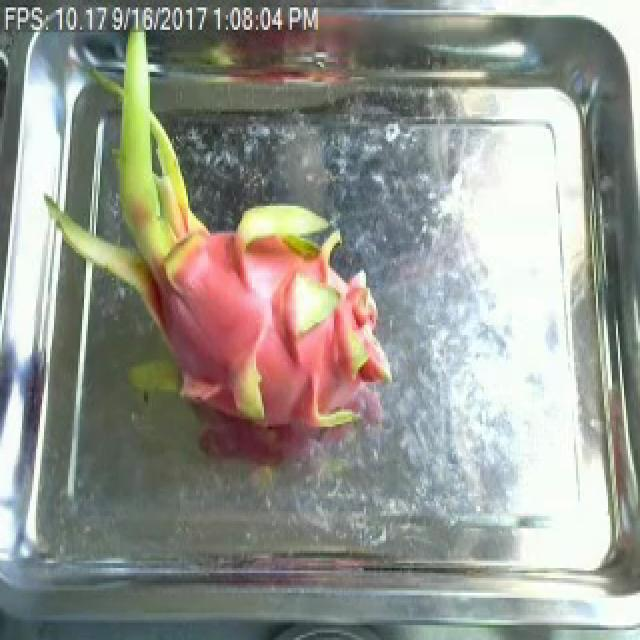fruit: (12, 77, 400, 499)
